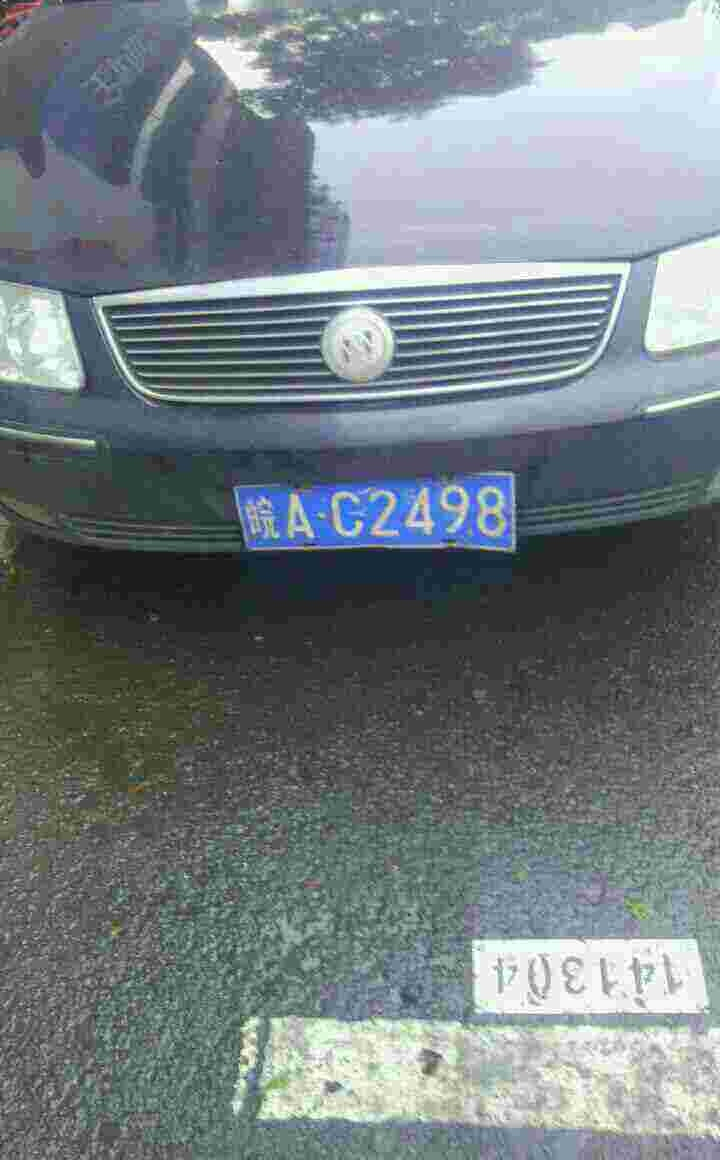license_plate: (234, 475, 508, 551)
